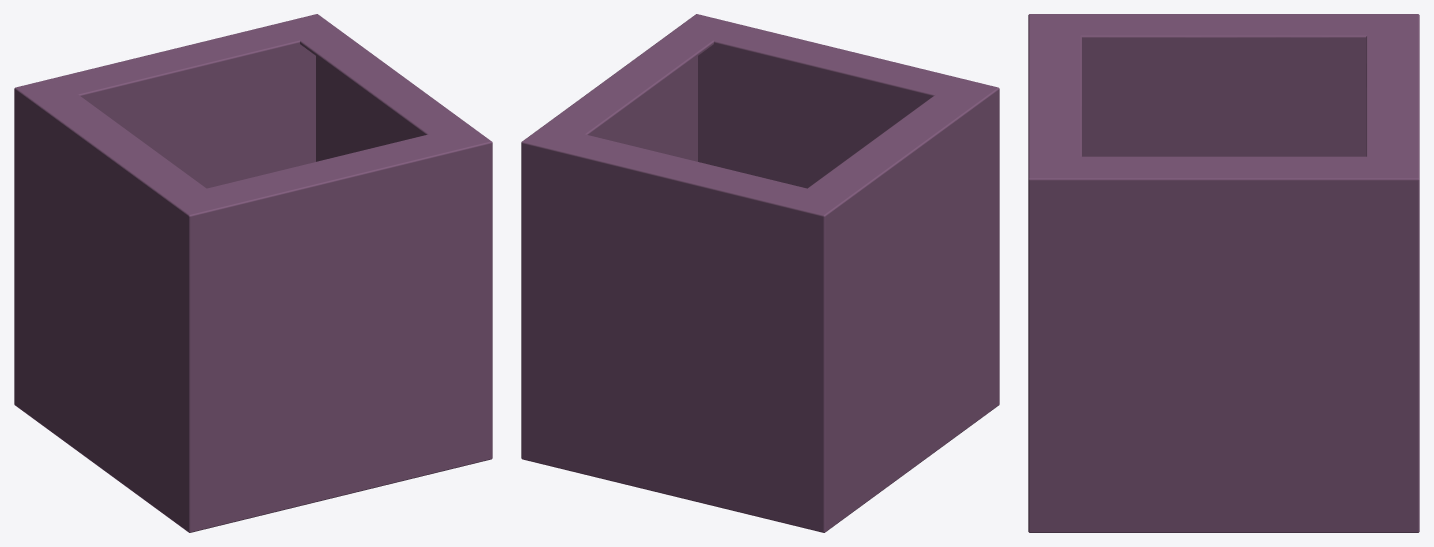
File: purple_box.dae
The picture shows the model from 3 angles, left to right: view 1: azimuth 30°, elevation 25°; view 2: azimuth 150°, elevation 25°; view 3: azimuth 270°, elevation 25°; orthographic projection. The views are drawn at different scales.
Visible parts, largest first — view 1: Purple box; view 2: Purple box; view 3: Purple box.
Boxes of the visible parts, x1,y1,x2,y2 form: Purple box: (14,14,492,532); Purple box: (521,14,999,532); Purple box: (1028,14,1419,532).
Size of the model in its own units: 0.207 by 0.207 by 0.207.
